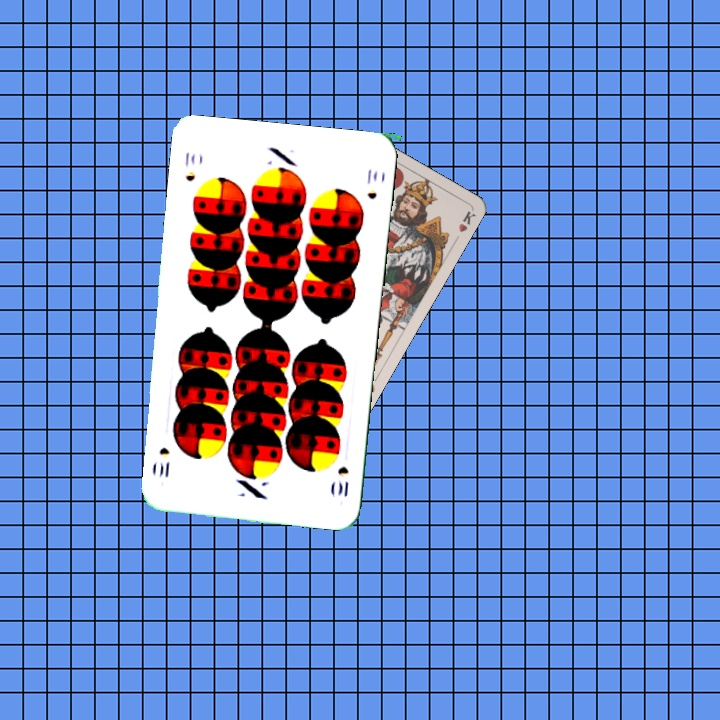S10: (334, 462, 351, 500), (181, 148, 198, 184)
